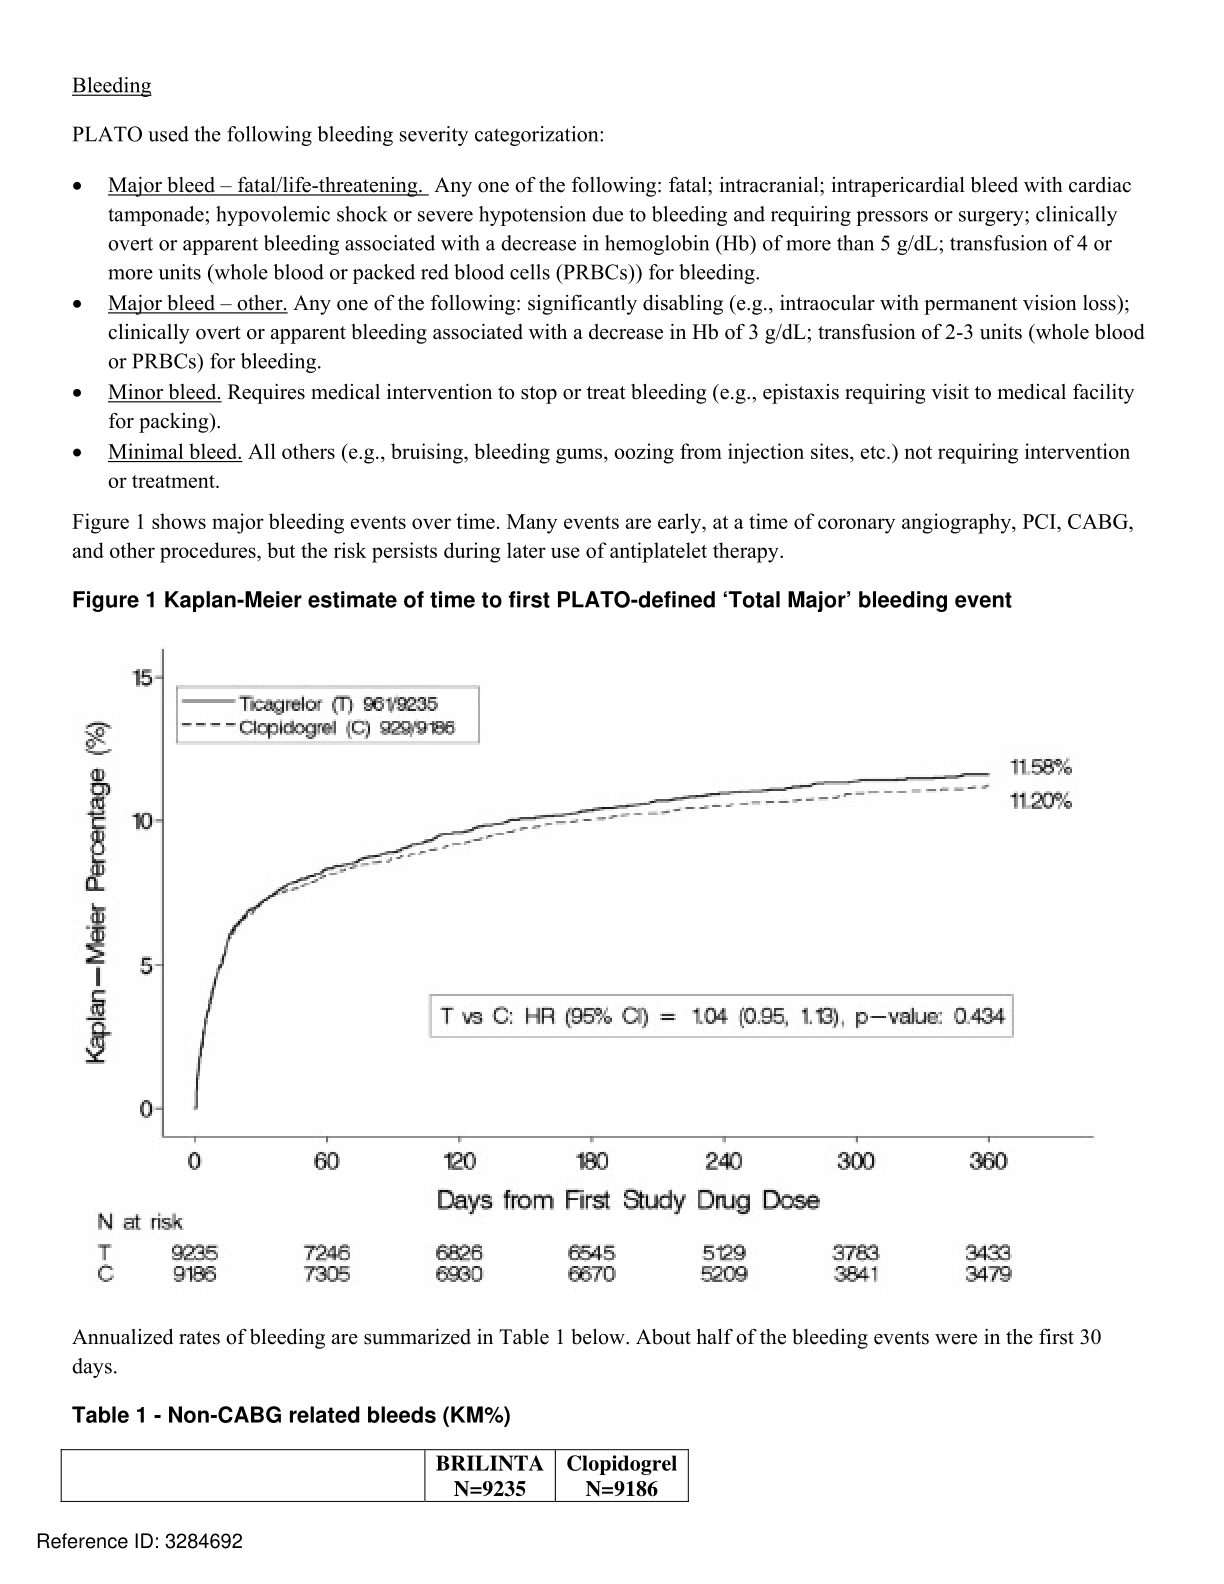full_lined: (59, 1449, 690, 1503)
nolines: (94, 1237, 1014, 1284)
